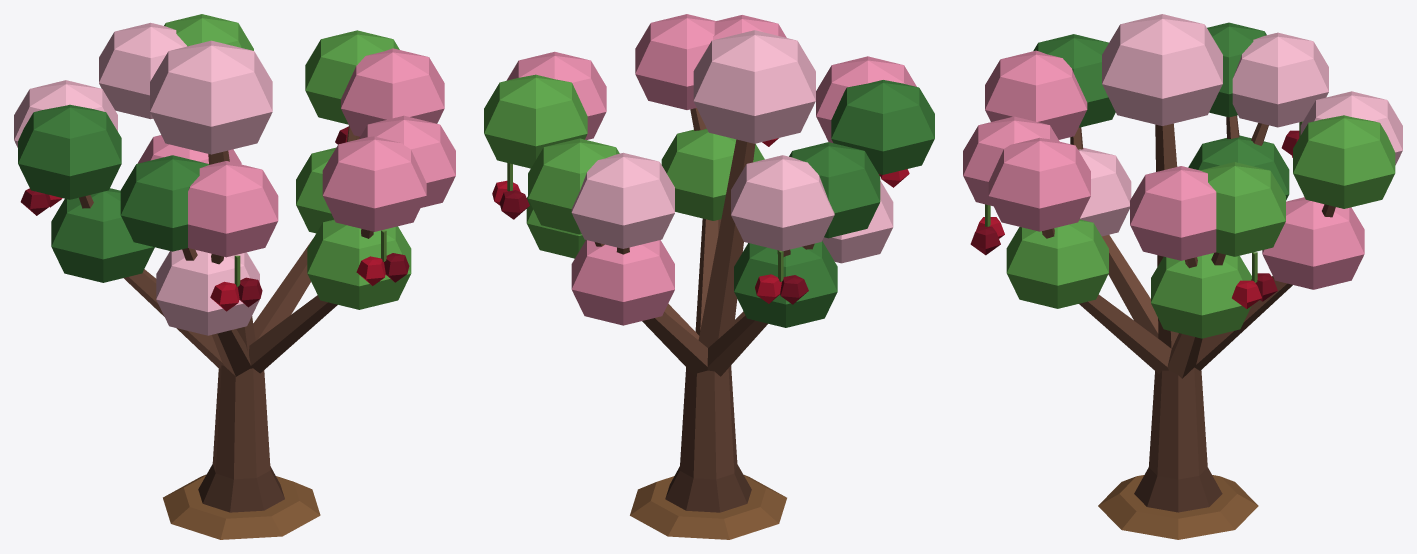
File: cherry-tree-1x1.glb
The picture shows the model from 3 angles, left to right: view 1: azimuth 30°, elevation 25°; view 2: azimuth 150°, elevation 25°; view 3: azimuth 270°, elevation 25°; orthographic projection.
Parts seen in each view (by area): view 1: cherry-tree-1x1; view 2: cherry-tree-1x1; view 3: cherry-tree-1x1.
Boxes of the visible parts, x1,y1,x2,y2 form: cherry-tree-1x1: (14,14,455,539); cherry-tree-1x1: (484,14,934,539); cherry-tree-1x1: (963,14,1402,539).
Bounding box in the file's own units: 0.8529 × 0.9645 × 0.8199.
1 material, 1 textured.
